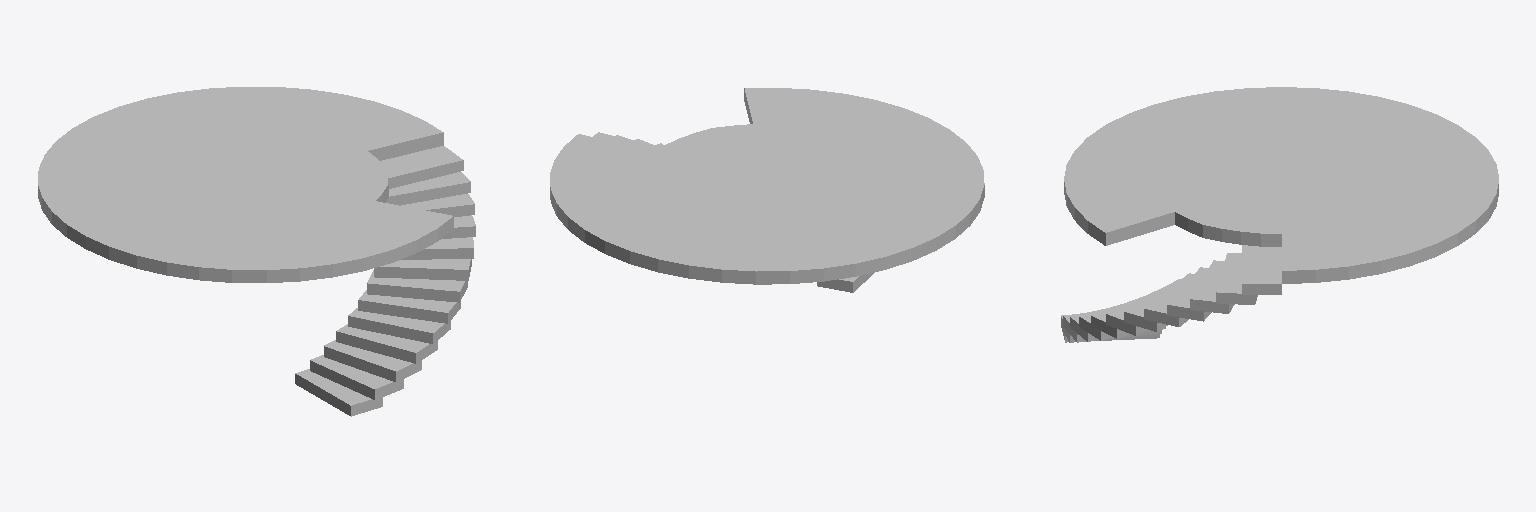
The model's file is floor_rapunzel.obj.
3 views of the same model, side by side, from view 1: azimuth 30°, elevation 25°; view 2: azimuth 150°, elevation 25°; view 3: azimuth 270°, elevation 25° (orthographic).
Parts seen in each view (by area): view 1: floor_rapunzel Floor_rapunzel, Stairs floor_rapunzel, floor_rapunzel Stairs7, floor_rapunzel Stairs6, floor_rapunzel Stairs8, floor_rapunzel Stairs9, floor_rapunzel Stairs10, floor_rapunzel Stairs11, floor_rapunzel Stairs5, floor_rapunzel Stairs12, floor_rapunzel Stairs1, floor_rapunzel Stairs4 (+1 smaller); view 2: floor_rapunzel Floor_rapunzel, floor_rapunzel Stairs12; view 3: floor_rapunzel Floor_rapunzel, Stairs floor_rapunzel, floor_rapunzel Stairs1, floor_rapunzel Stairs2, floor_rapunzel Stairs3, floor_rapunzel Stairs4, floor_rapunzel Stairs5, floor_rapunzel Stairs6.
Boxes of the visible parts, x1,y1,x2,y2 form: floor_rapunzel Floor_rapunzel: [38, 87, 453, 282]; Stairs floor_rapunzel: [379, 146, 463, 188]; floor_rapunzel Stairs7: [358, 290, 460, 323]; floor_rapunzel Stairs6: [367, 270, 467, 302]; floor_rapunzel Stairs8: [348, 308, 450, 343]; floor_rapunzel Stairs9: [336, 324, 437, 363]; floor_rapunzel Stairs10: [324, 340, 421, 382]; floor_rapunzel Stairs11: [310, 355, 403, 399]; floor_rapunzel Stairs5: [374, 259, 471, 280]; floor_rapunzel Stairs12: [295, 369, 382, 416]; floor_rapunzel Stairs1: [385, 172, 470, 205]; floor_rapunzel Stairs4: [401, 237, 473, 259]; floor_rapunzel Floor_rapunzel: [550, 88, 984, 284]; floor_rapunzel Stairs12: [817, 273, 873, 292]; floor_rapunzel Floor_rapunzel: [1064, 87, 1498, 283]; Stairs floor_rapunzel: [1242, 245, 1281, 294]; floor_rapunzel Stairs1: [1216, 253, 1257, 304]; floor_rapunzel Stairs2: [1190, 260, 1234, 313]; floor_rapunzel Stairs3: [1167, 267, 1211, 321]; floor_rapunzel Stairs4: [1144, 273, 1193, 326]; floor_rapunzel Stairs5: [1124, 279, 1180, 331]; floor_rapunzel Stairs6: [1106, 285, 1167, 335].
Size of the model in its own units: 25.6 by 9.99 by 25.8.